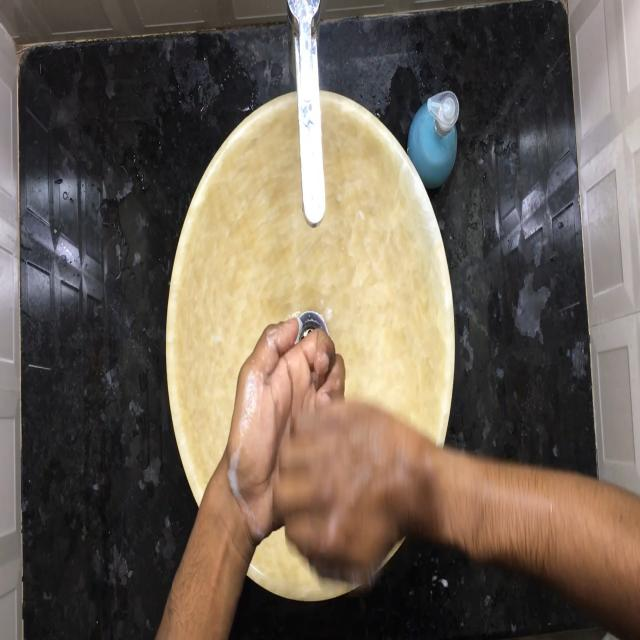step_4: (227, 298, 411, 602)
